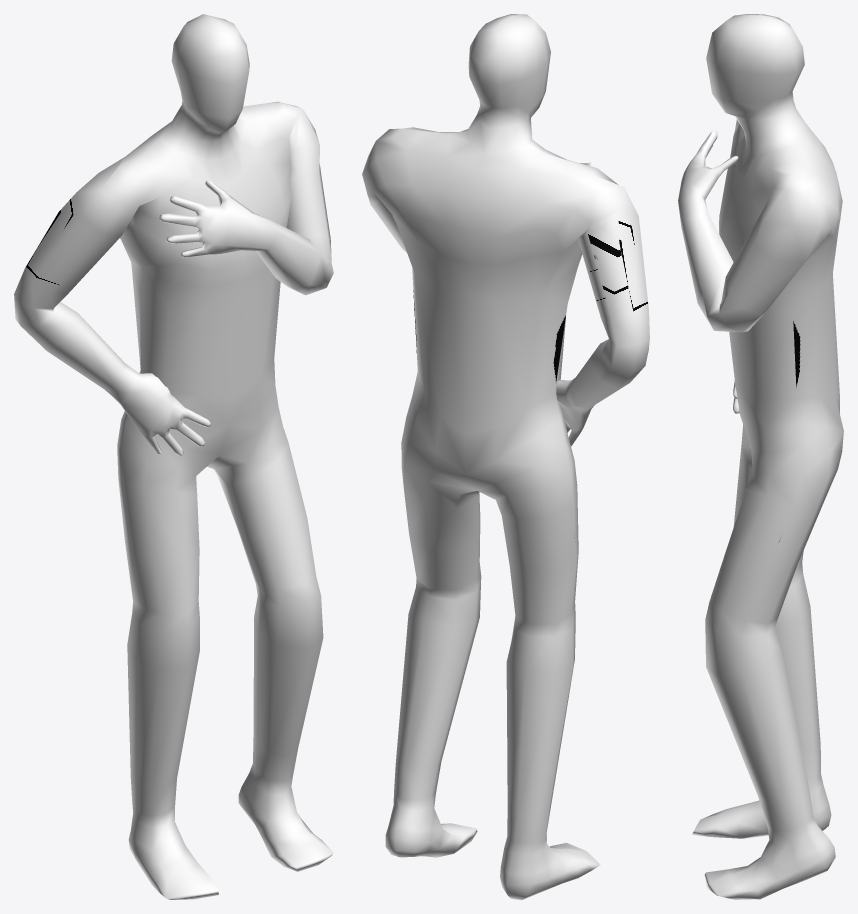
File: Maniqui_posed_no_rig1.fbx
3 views of the same model, side by side, from view 1: azimuth 30°, elevation 25°; view 2: azimuth 150°, elevation 25°; view 3: azimuth 270°, elevation 25° (orthographic).
Parts seen in each view (by area): view 1: pCube2; view 2: pCube2; view 3: pCube2.
Boxes of the visible parts, box(x1,y1,x2,y2) form: pCube2: box(14, 14, 333, 899); pCube2: box(362, 14, 649, 899); pCube2: box(678, 14, 843, 899).
Bounding box in the file's own units: 60.9 × 173 × 30.9.
